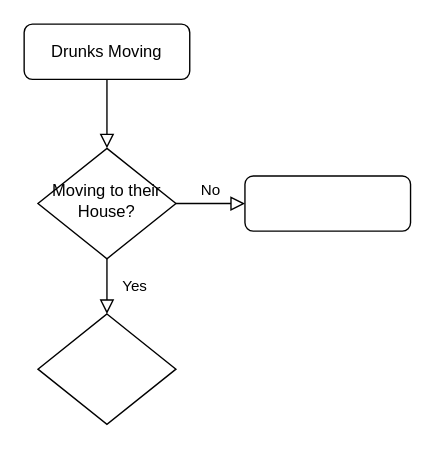
Some shapes in this 435 by 449 pixel diagram are drawn without their labels. The shapes that lost their labels are listed below. From the top down, each one's centre as x and y in pixels, then its label:
[327,203]: Keep Moving
[106,368]: Stop, and Print
